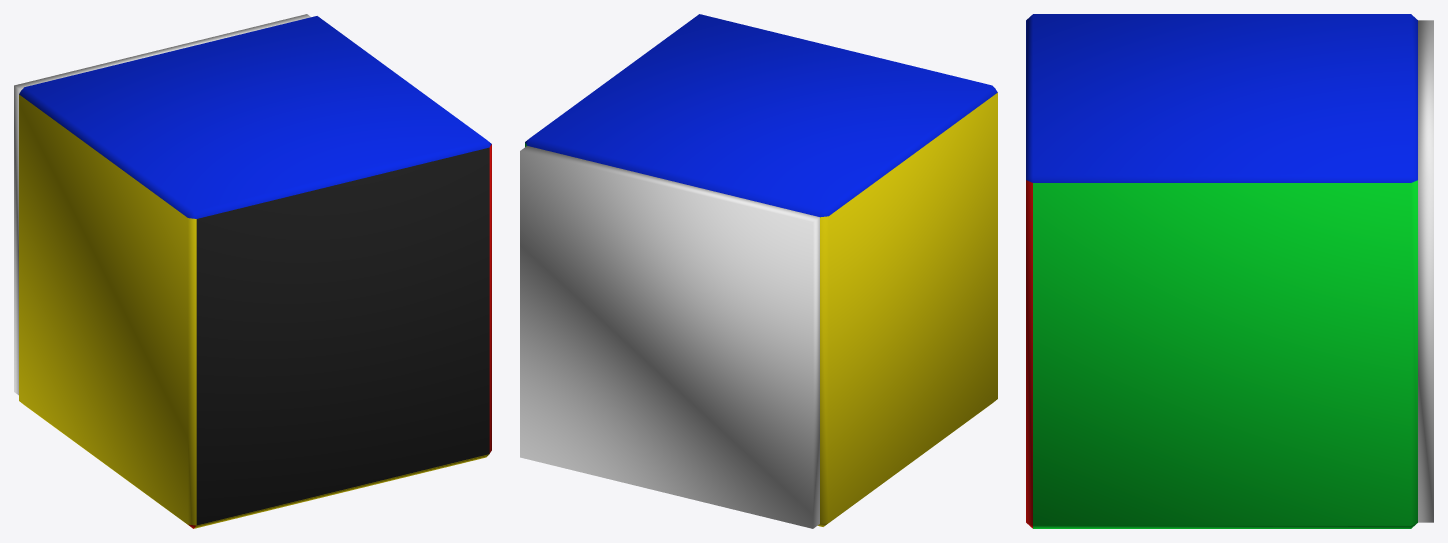
File: ColorCube.fbx
3 renders of one model, left to right at view 1: azimuth 30°, elevation 25°; view 2: azimuth 150°, elevation 25°; view 3: azimuth 270°, elevation 25°, orthographic. The views are drawn at different scales.
Visible parts, largest first — view 1: Cube, smColorMeter; view 2: Cube, smColorMeter; view 3: Cube, smColorMeter.
Boxes of the visible parts, x1,y1,x2,y2 form: Cube: (19,16,491,528); smColorMeter: (14,14,310,395); Cube: (525,14,997,526); smColorMeter: (520,146,819,528); Cube: (1026,14,1417,528); smColorMeter: (1418,20,1433,522).
Size of the model in its own units: 2 by 2 by 2.08.
